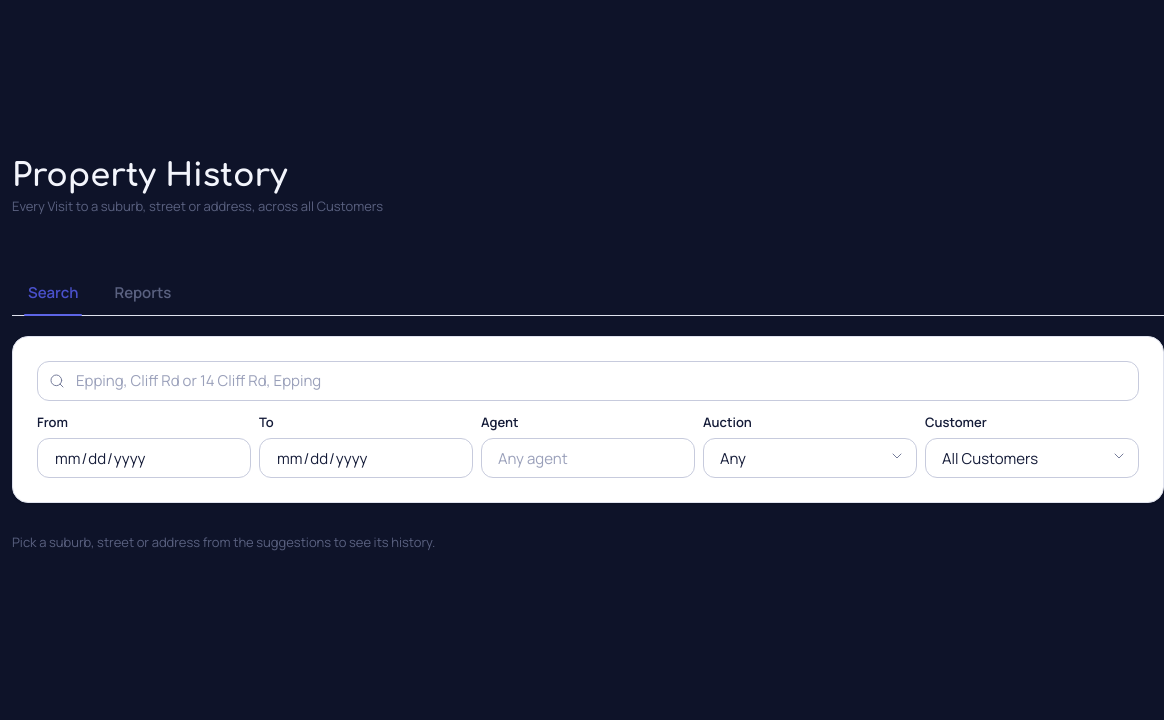
Test: Administrator Property History page › says so when a search finds no Visits
Type "14 cliff" into the dropdown named "Suburb, street or address" at (588, 381), box [37,361,1139,401]
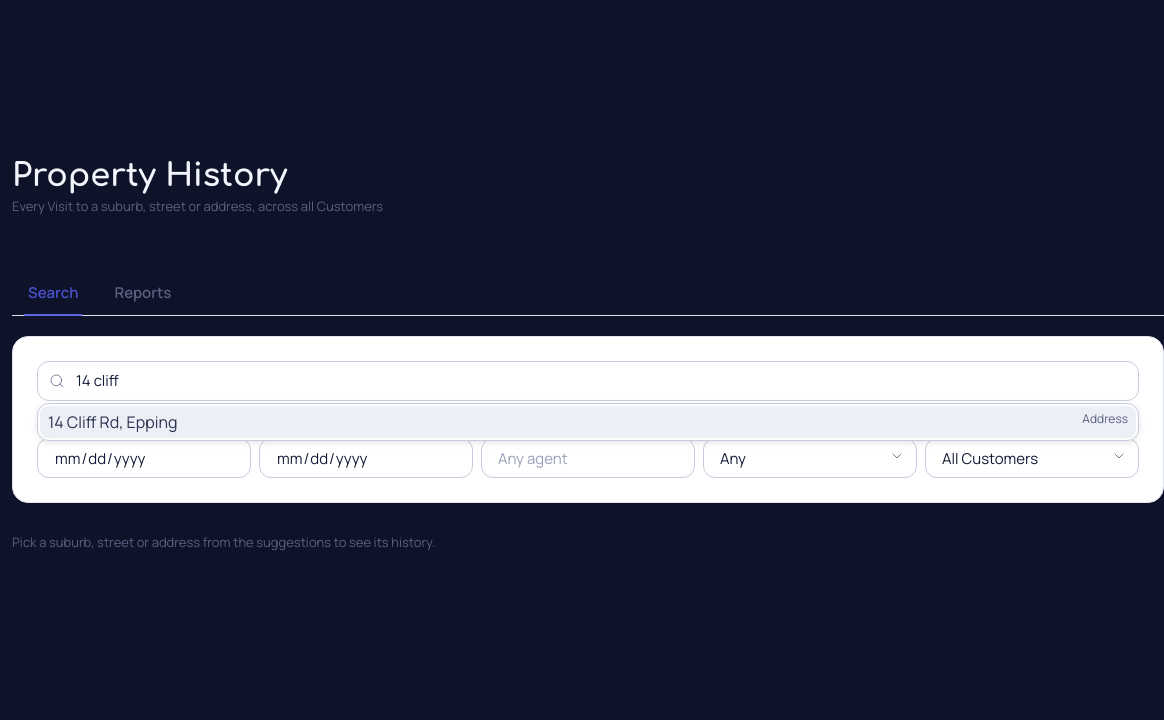
Click the option "14 Cliff Rd, Epping Address" at (113, 422), box [40,406,1136,438]
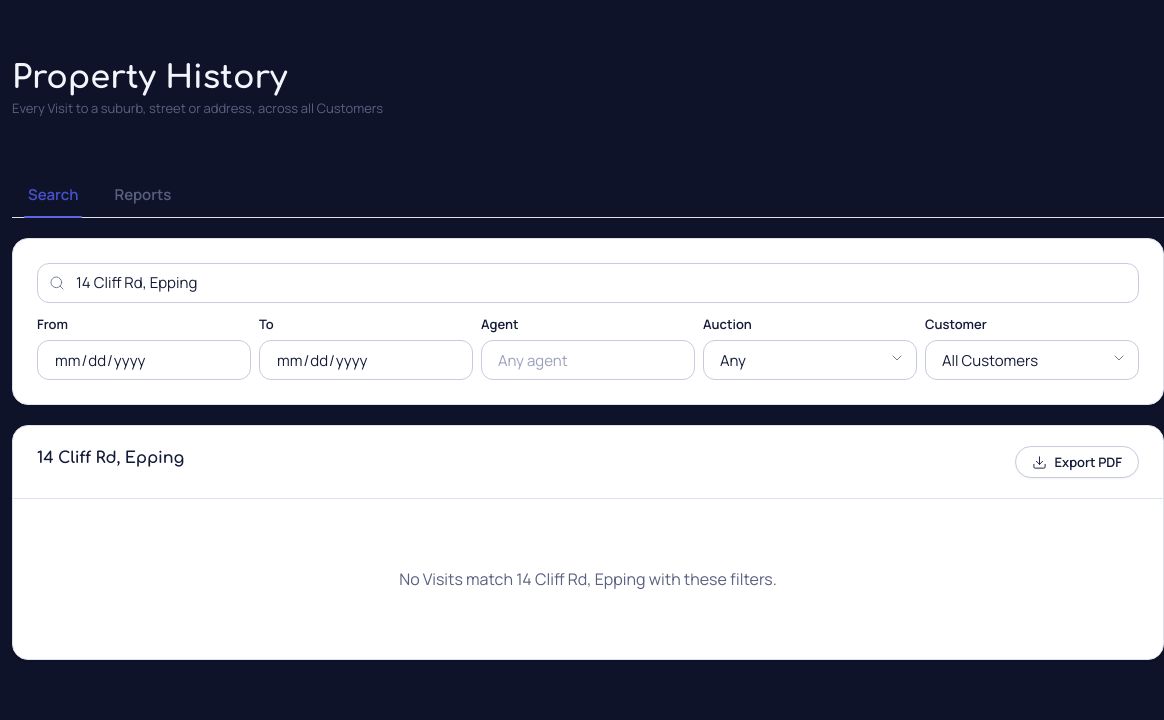
Now the text "No Visits match 14 Cliff Rd, Epping with these filters." is shown, box [399,568,777,590]
